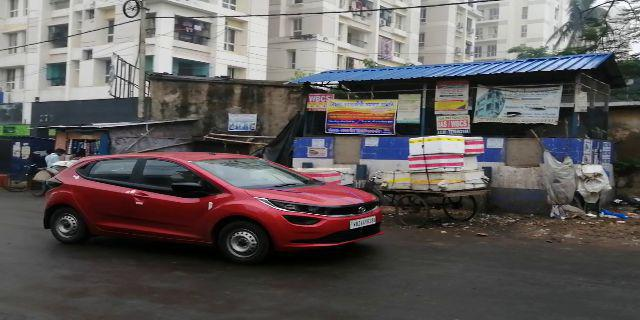Car: (49, 157, 383, 269)
